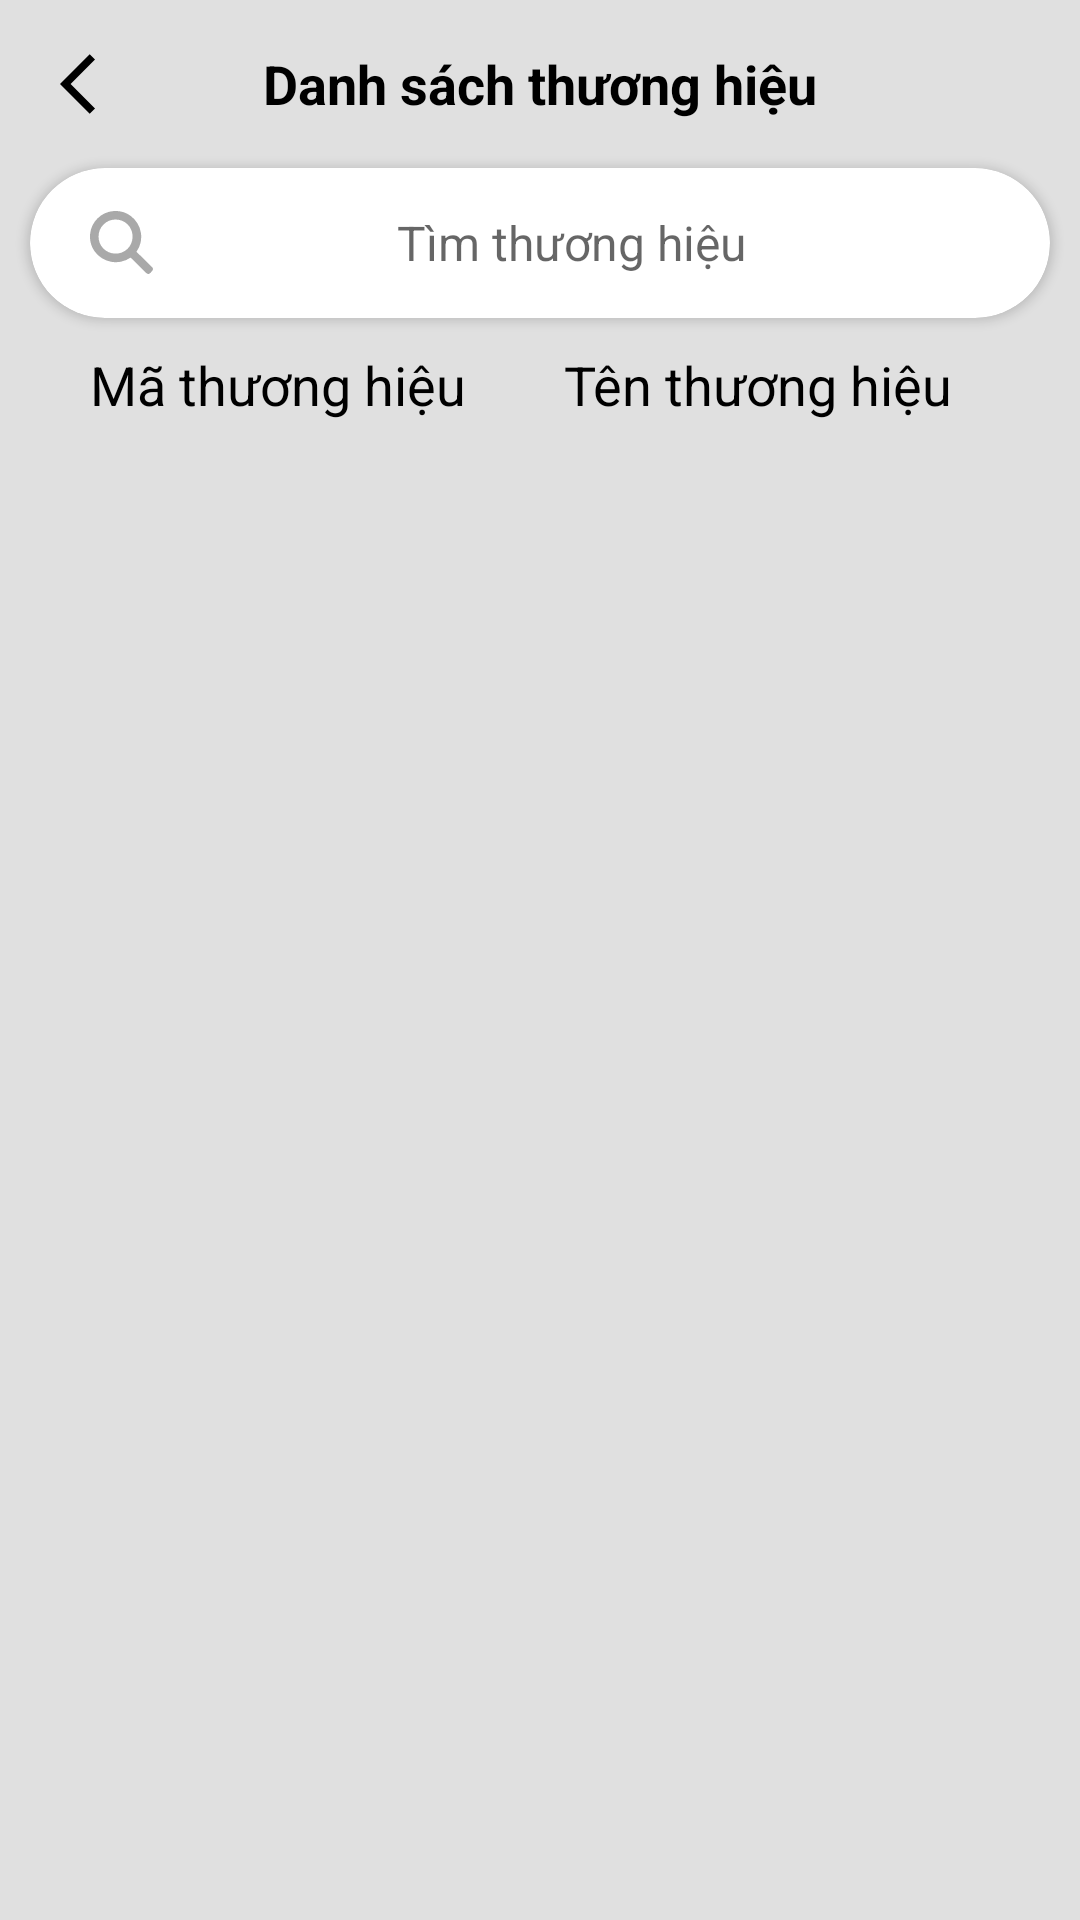

Named icons in this screenshot (1080*1920) and their centers, (x=x, y=y):
back arrow: (x=77, y=84)
